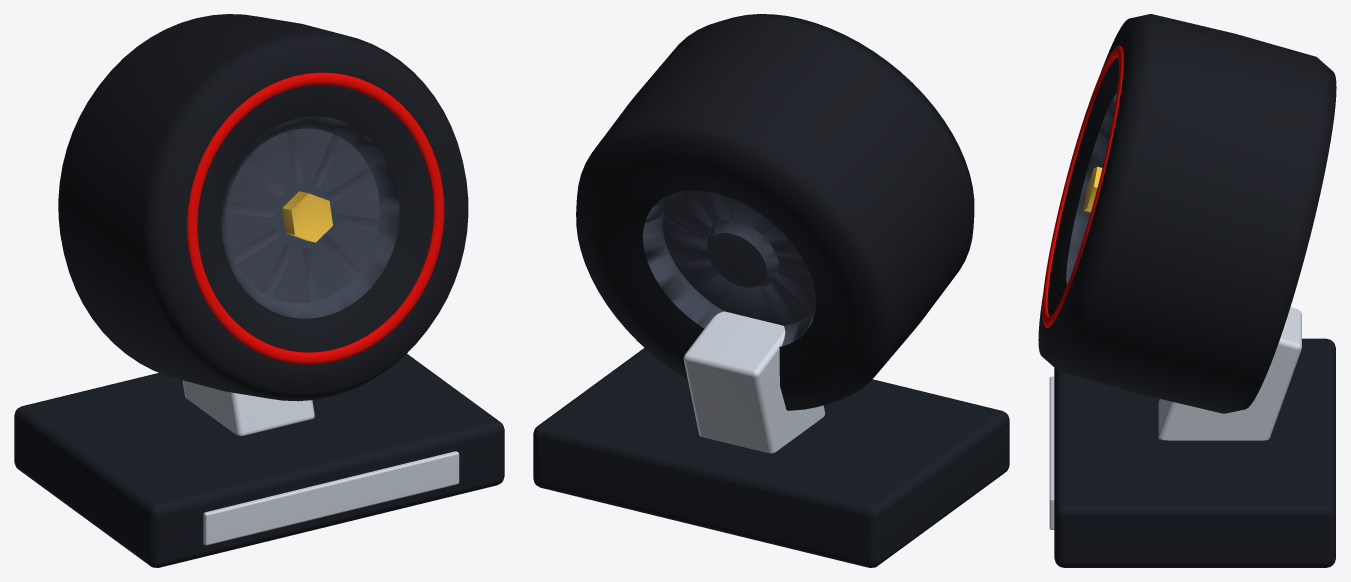
The model's file is pirelli_pole_award.glb.
3 renders of one model, left to right at view 1: azimuth 30°, elevation 25°; view 2: azimuth 150°, elevation 25°; view 3: azimuth 270°, elevation 25°, orthographic. The views are drawn at different scales.
Parts seen in each view (by area): view 1: Pirelli_Tyre_Body, Pirelli_Plinth, Pirelli_Wheel_Rim, Pirelli_Red_Band, Pirelli_Front_Plate, Pirelli_Support_Neck, Pirelli_Center_Nut; view 2: Pirelli_Tyre_Body, Pirelli_Plinth, Pirelli_Wheel_Rim, Pirelli_Support_Neck; view 3: Pirelli_Tyre_Body, Pirelli_Plinth, Pirelli_Support_Neck, Pirelli_Red_Band, Pirelli_Wheel_Rim, Pirelli_Front_Plate, Pirelli_Center_Nut.
Boxes of the visible parts, bbox=[...] form: Pirelli_Tyre_Body: bbox=[58, 14, 468, 401]; Pirelli_Plinth: bbox=[14, 354, 504, 567]; Pirelli_Wheel_Rim: bbox=[221, 116, 399, 318]; Pirelli_Red_Band: bbox=[187, 72, 444, 364]; Pirelli_Front_Plate: bbox=[203, 451, 459, 545]; Pirelli_Support_Neck: bbox=[182, 380, 314, 435]; Pirelli_Center_Nut: bbox=[282, 191, 332, 242]; Pirelli_Tyre_Body: bbox=[576, 14, 974, 410]; Pirelli_Plinth: bbox=[533, 348, 1009, 567]; Pirelli_Wheel_Rim: bbox=[643, 190, 816, 346]; Pirelli_Support_Neck: bbox=[683, 311, 825, 453]; Pirelli_Tyre_Body: bbox=[1038, 14, 1336, 413]; Pirelli_Plinth: bbox=[1054, 338, 1335, 567]; Pirelli_Support_Neck: bbox=[1158, 307, 1301, 440]; Pirelli_Red_Band: bbox=[1042, 45, 1123, 327]; Pirelli_Wheel_Rim: bbox=[1066, 93, 1116, 284]; Pirelli_Front_Plate: bbox=[1049, 376, 1054, 529]; Pirelli_Center_Nut: bbox=[1083, 166, 1102, 212].
Bounding box in the file's own units: 0.21 × 0.2574 × 0.1534.
